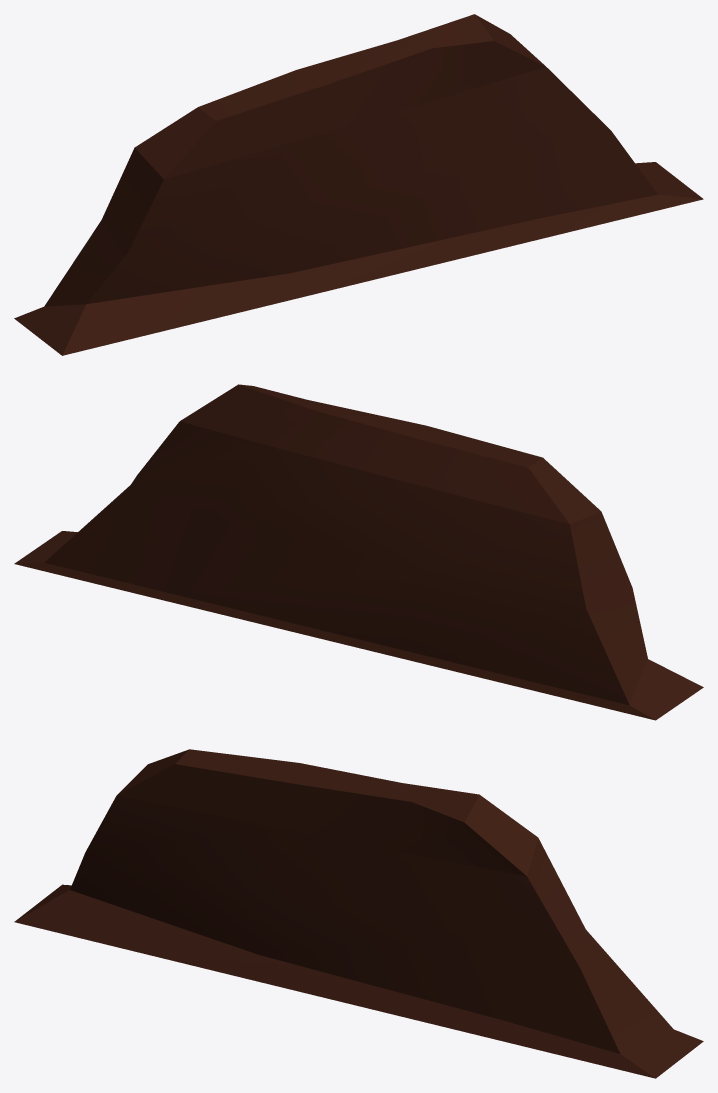
File: bout_pompe.fbx
3 views of the same model, one above another, from view 1: azimuth 30°, elevation 25°; view 2: azimuth 150°, elevation 25°; view 3: azimuth 330°, elevation 25° (orthographic).
Parts seen in each view (by area): view 1: Cube.001; view 2: Cube.001; view 3: Cube.001.
Boxes of the visible parts, <box> form: Cube.001: <box>14,14,703,355</box>; Cube.001: <box>14,384,703,720</box>; Cube.001: <box>14,749,703,1078</box>.
Bounding box in the file's own units: 11.92 × 3.82 × 1.56.
